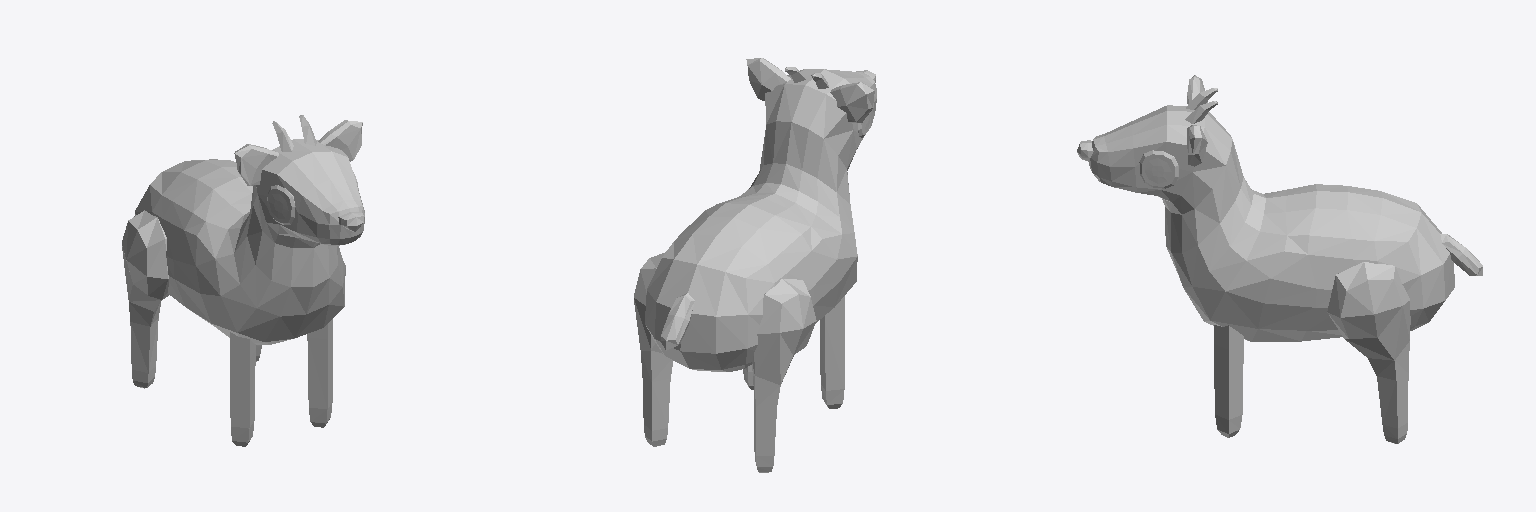
Rendered from Pudu_LOD2.obj.
3 renders of one model, left to right at view 1: azimuth 30°, elevation 25°; view 2: azimuth 150°, elevation 25°; view 3: azimuth 270°, elevation 25°, orthographic.
Visible parts, largest first — view 1: Mesh_Pudu_LOD2; view 2: Mesh_Pudu_LOD2; view 3: Mesh_Pudu_LOD2.
Boxes of the visible parts, x1=… form: Mesh_Pudu_LOD2: x1=122, y1=115, x2=364, y2=446; Mesh_Pudu_LOD2: x1=634, y1=58, x2=876, y2=472; Mesh_Pudu_LOD2: x1=1077, y1=75, x2=1482, y2=443.
Bounding box in the file's own units: 0.5638 × 1.06 × 1.21.